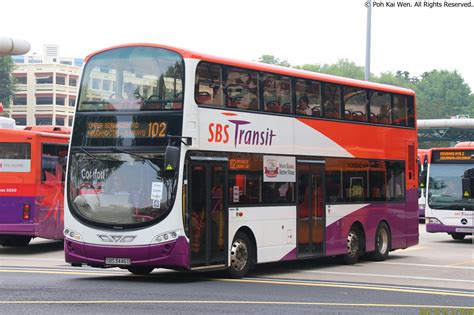bus: (63, 45, 420, 272), (426, 146, 474, 241)
